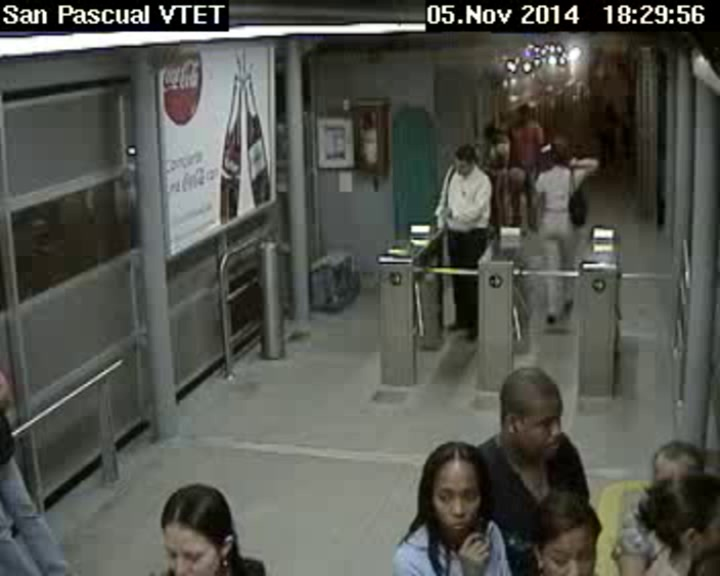person: (154, 479, 242, 574), (413, 440, 491, 544), (634, 476, 720, 557), (491, 361, 562, 457), (529, 486, 603, 576), (645, 434, 704, 485), (453, 142, 474, 172), (548, 139, 570, 166), (482, 124, 501, 144), (514, 102, 530, 125)
